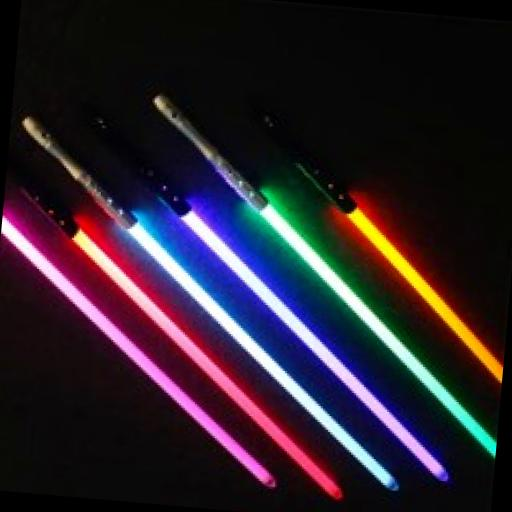lightsaber: (36, 107, 480, 485), (0, 108, 436, 492), (108, 102, 512, 460), (0, 218, 301, 488), (228, 103, 512, 382)
sith saber: (0, 173, 372, 501)
